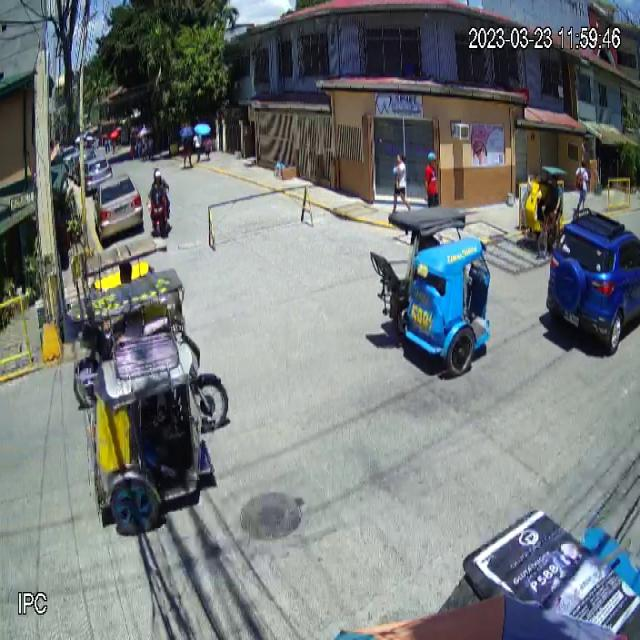Car: (545, 207, 640, 351), (94, 172, 144, 239)
Tricycle: (68, 268, 230, 536), (369, 206, 492, 372), (515, 164, 567, 249)
